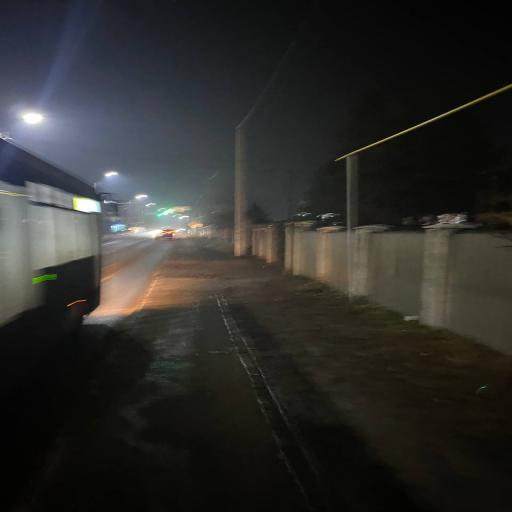bicycle: (0, 124, 126, 360)
ramp: (0, 229, 172, 512)
shelf: (10, 234, 340, 512)
